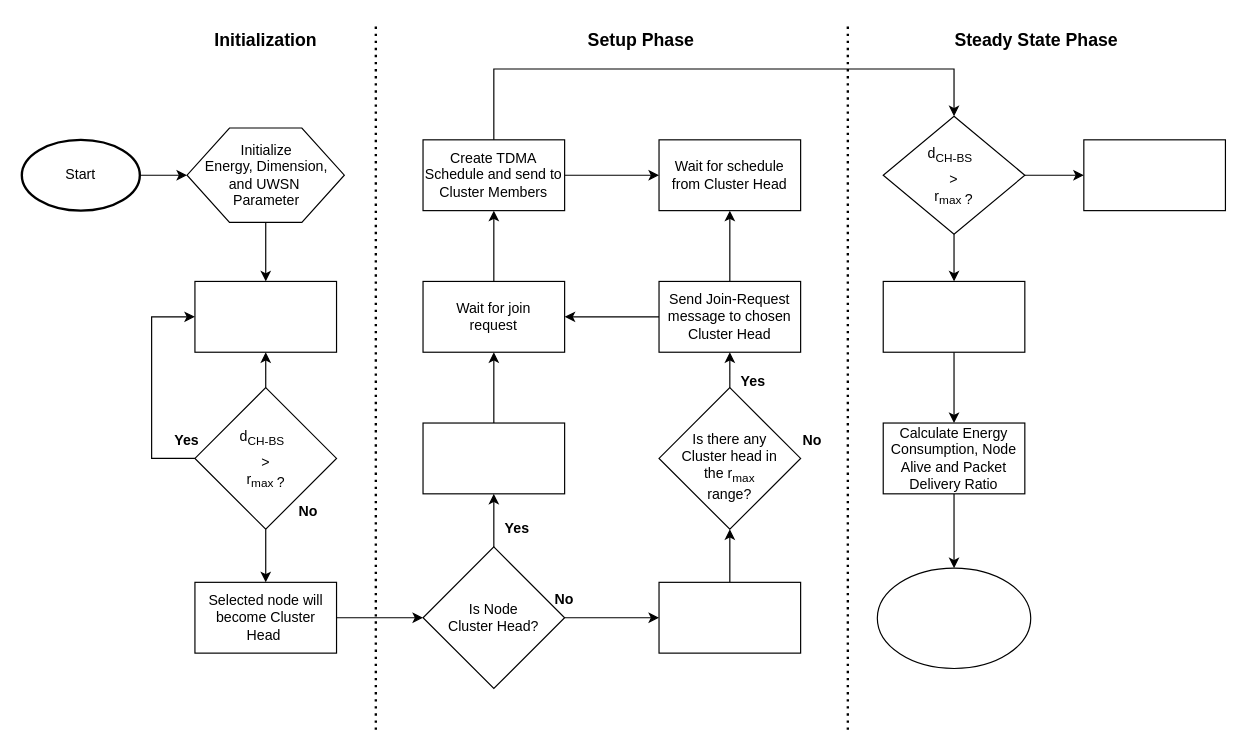
Image size: 1246x752. Some labels were removed from this diagram. Here are the shapes that lost their labels. From the top down, the centre of each, then its label:
At point 1154,175: "Cluster Head and Node within Cluster became Orphan Node".
At point 265,316: "Cluster Head Selection".
At point 953,316: "Send data to Base Station".
At point 493,458: "Announce Cluster Head Status".
At point 729,617: "Wait for Cluster Head Announcements".
At point 953,617: "Selesai".
